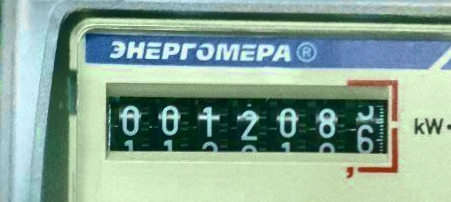0: (275, 104, 300, 139), (158, 100, 181, 137), (120, 100, 140, 137)
1: (199, 102, 216, 139)
2: (236, 107, 262, 142)
6: (353, 119, 376, 155)
8: (314, 105, 337, 141)
screen: (95, 69, 407, 189)
